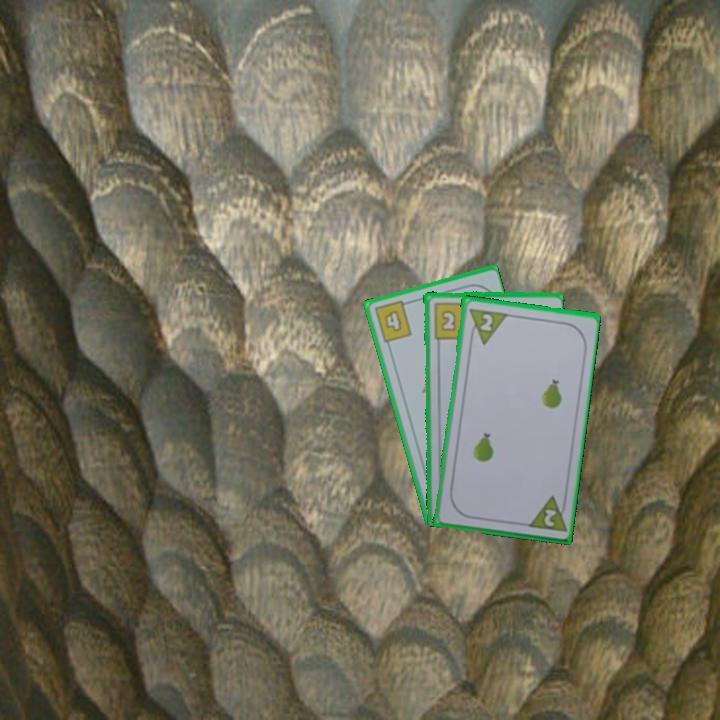2b: (430, 299, 472, 341)
2p: (523, 492, 570, 534), (465, 304, 509, 347)
4b: (371, 297, 414, 345)
